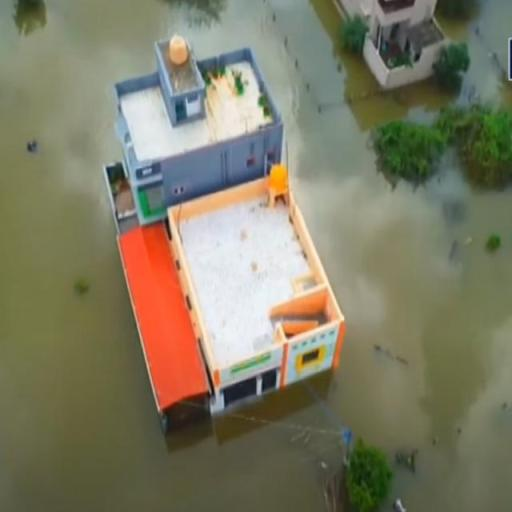flood: (0, 0, 512, 512), (461, 453, 512, 512), (167, 4, 197, 38)
house: (120, 140, 354, 442), (105, 43, 290, 181), (332, 0, 456, 96)
